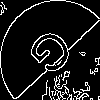G: (25, 25, 83, 86)
